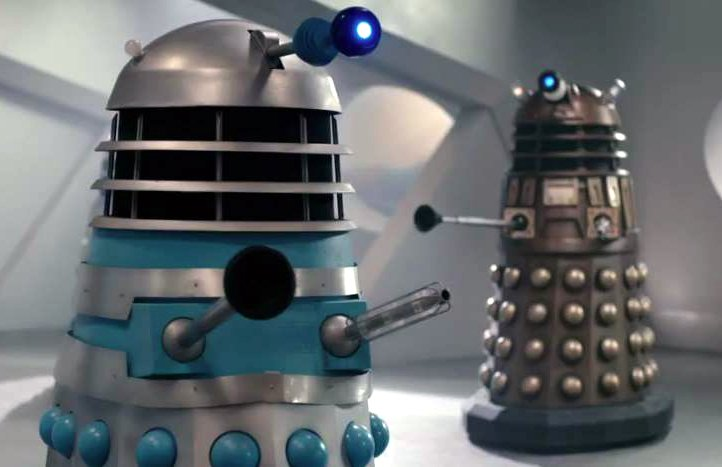dalek: (19, 0, 397, 467), (418, 25, 661, 456)
